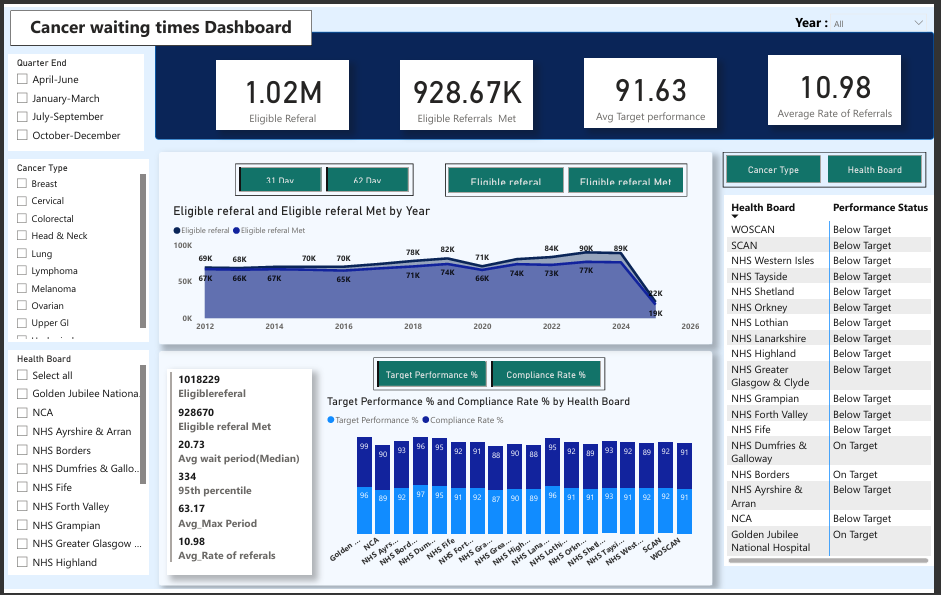

The dashboard page shown, as its layout file describes it:
{"tool":"powerbi","page":{"name":"Dashboard","canvas":[1440,900],"ordinal":1},"visuals":[{"type":"shape","box":[234.2,38.5,1206,166.8],"z":0,"group":"g1"},{"type":"shape","box":[239.8,224.1,856.8,297.6],"z":0,"group":"g2"},{"type":"pivotTable","fields":{"Rows":["cancer Type.Cancer Type","Health Board.Health Board"],"Values":["KPI.Performance Status"]},"box":[1116.2,292.1,323.5,574],"z":0,"group":"g4"},{"type":"slicer","fields":{"Values":["Health Board.Health Board"]},"box":[7.4,531.2,218.3,346.7],"z":0,"group":"g5"},{"type":"shape","box":[240,531.7,856.7,363.3],"z":0,"group":"g3"},{"type":"group","id":"g1","title":"HEader","box":[10,5,1430.2,200.3],"z":500},{"type":"card","fields":{"Values":["Sum(Fact Table.Number of Eligible referrals met Target)"]},"box":[613.8,83.4,205.3,107.5],"z":1000},{"type":"advancedSlicerVisual","fields":{"Values":["Categories.Categories"]},"box":[1113.2,224,315.2,54.7],"z":1000,"group":"g4"},{"type":"slicer","fields":{"Values":["cancer Type.Cancer Type"]},"box":[7.4,236.2,218.3,281.7],"z":1000,"group":"g5"},{"type":"advancedSlicerVisual","fields":{"Values":["Target Type.Target Type"]},"box":[357.6,242.2,275.8,49.7],"z":1000,"group":"g2"},{"type":"multiRowCard","fields":{"Values":["KPI.Eligiblereferal","KPI.Eligible referal Met","KPI.Avg wait period(Median)","KPI.95th percentile","KPI.Mean","KPI.Avg_Rate of referals"]},"box":[253.3,560,223.3,318.3],"z":1000,"group":"g3"},{"type":"slicer","fields":{"Values":["Fact Table.Quarter End"]},"box":[7.4,73,209.7,149.4],"z":2000,"group":"g5"},{"type":"card","fields":{"Values":["Avg(Fact Table.Target performance)"]},"box":[898.8,78.6,205,107],"z":2000},{"type":"advancedSlicerVisual","fields":{"Values":["Parameter.Parameter"]},"box":[683.2,242.2,375.3,51.3],"z":2000,"group":"g2"},{"type":"columnChart","fields":{"Category":["cancer Type.Cancer Type","Health Board.Health Board"],"Y":["KPI.Performance by category","KPI.Compliance Rate"]},"box":[495,598.4,586.7,280],"z":2000,"group":"g3"},{"type":"slicer","fields":{"Values":["Fact Table.Year"]},"box":[1269.7,0,170.2,49.4],"z":3000,"group":"g5"},{"type":"card","fields":{"Values":["Avg(Fact Table.Rate of Referrals)"]},"box":[1183.6,75.4,205,107],"z":3000},{"type":"areaChart","fields":{"Y":["KPI.Eligiblereferal","KPI.Eligible referal Met"],"Category":["Fact Table.Year"]},"box":[256.7,304.6,824.5,207.3],"z":3000,"group":"g2"},{"type":"advancedSlicerVisual","fields":{"Values":["Target & Compliance.Parameter"]},"box":[572.3,541.6,359.3,51.1],"z":3000,"group":"g3"},{"type":"card","fields":{"Values":["KPI.Eligiblereferal"]},"box":[328.8,81.8,205.3,107.5],"z":4000},{"type":"textbox","box":[10,5,466.7,55],"z":5000,"group":"g1"},{"type":"shape","box":[1214.9,5.5,71.4,32.9],"z":6000,"group":"g1"},{"type":"group","id":"g2","title":"Time Series","box":[239.8,224.1,856.8,297.6],"z":7000},{"type":"group","id":"g3","title":"Performance ","box":[240,531.7,856.7,363.3],"z":8000},{"type":"group","id":"g4","title":"Matrix","box":[1113.2,224,326.5,642.1],"z":9000},{"type":"group","id":"g5","title":"Slicers","box":[7.4,0,1432.6,877.9],"z":10000}]}

Visuals, with their boxes in screenshot pixels (x1, y1, x2, y2), scaled from the page's 1440x900 canvas onto the 941x595 screenshot:
shape: [left=153, top=25, right=940, bottom=136]
shape: [left=157, top=148, right=717, bottom=345]
pivotTable - cancer Type.Cancer Type x Health Board.Health Board: [left=729, top=193, right=940, bottom=573]
slicer - Health Board.Health Board: [left=5, top=351, right=147, bottom=580]
shape: [left=157, top=352, right=717, bottom=592]
"HEader" group: [left=7, top=3, right=940, bottom=136]
card - Sum(Fact Table.Number of Eligible referrals met Target): [left=401, top=55, right=535, bottom=126]
advancedSlicerVisual - Categories.Categories: [left=727, top=148, right=933, bottom=184]
slicer - cancer Type.Cancer Type: [left=5, top=156, right=147, bottom=342]
advancedSlicerVisual - Target Type.Target Type: [left=234, top=160, right=414, bottom=193]
multiRowCard - KPI.Eligiblereferal x KPI.Eligible referal Met: [left=166, top=370, right=311, bottom=581]
slicer - Fact Table.Quarter End: [left=5, top=48, right=142, bottom=147]
card - Avg(Fact Table.Target performance): [left=587, top=52, right=721, bottom=123]
advancedSlicerVisual - Parameter.Parameter: [left=446, top=160, right=692, bottom=194]
columnChart - cancer Type.Cancer Type x Health Board.Health Board: [left=323, top=396, right=707, bottom=581]
slicer - Fact Table.Year: [left=830, top=0, right=940, bottom=33]
card - Avg(Fact Table.Rate of Referrals): [left=773, top=50, right=907, bottom=121]
areaChart - KPI.Eligiblereferal x KPI.Eligible referal Met: [left=168, top=201, right=707, bottom=338]
advancedSlicerVisual - Target & Compliance.Parameter: [left=374, top=358, right=609, bottom=392]
card - KPI.Eligiblereferal: [left=215, top=54, right=349, bottom=125]
textbox: [left=7, top=3, right=312, bottom=40]
shape: [left=794, top=4, right=841, bottom=25]
"Time Series" group: [left=157, top=148, right=717, bottom=345]
"Performance " group: [left=157, top=352, right=717, bottom=592]
"Matrix" group: [left=727, top=148, right=940, bottom=573]
"Slicers" group: [left=5, top=0, right=940, bottom=580]
